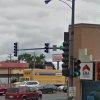Traffic light: (56, 27, 86, 84)
